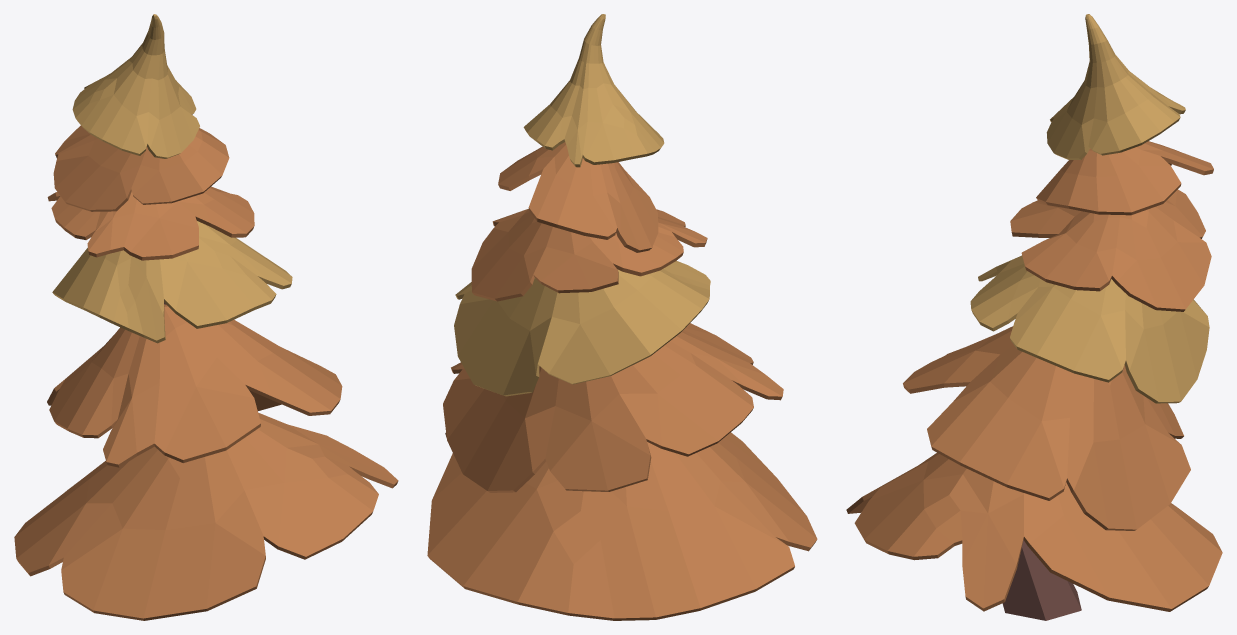
Rendered from pinetree_autumn_3.glb.
3 renders of one model, left to right at view 1: azimuth 30°, elevation 25°; view 2: azimuth 150°, elevation 25°; view 3: azimuth 270°, elevation 25°, orthographic. The views are drawn at different scales.
Parts seen in each view (by area): view 1: PineTree_Autumn_3; view 2: PineTree_Autumn_3; view 3: PineTree_Autumn_3.
Part boxes in pixels (x1,y1,x2,y2): PineTree_Autumn_3: (14,14,398,620); PineTree_Autumn_3: (427,14,817,620); PineTree_Autumn_3: (846,14,1222,620).
Bounding box in the file's own units: 5.19 × 7.93 × 4.69.
